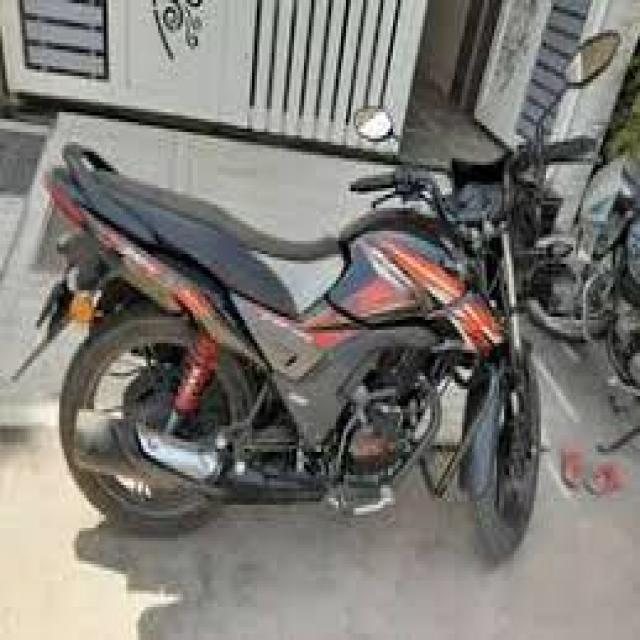bike: (35, 109, 583, 574)
